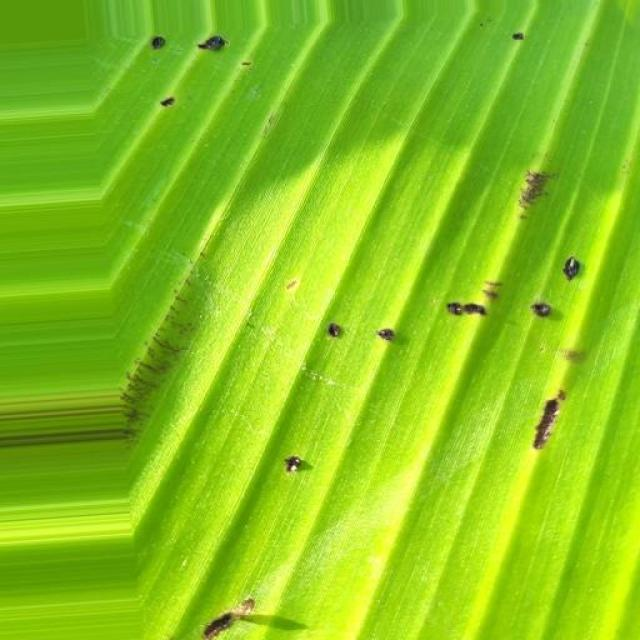Black_rot: (319, 142, 640, 452), (192, 431, 348, 636), (139, 31, 272, 119), (484, 22, 560, 62)
